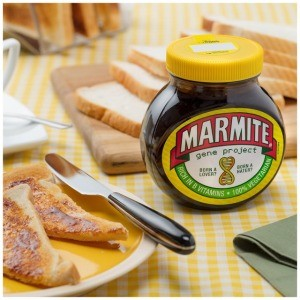yeast spread_brain food: (147, 79, 292, 210)
